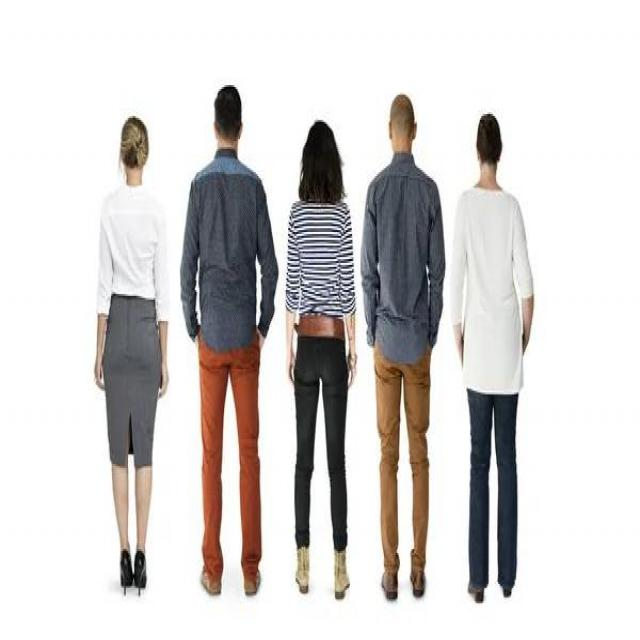person: (176, 70, 278, 594), (75, 89, 168, 611), (450, 91, 538, 621), (367, 75, 438, 619), (283, 112, 357, 609)
